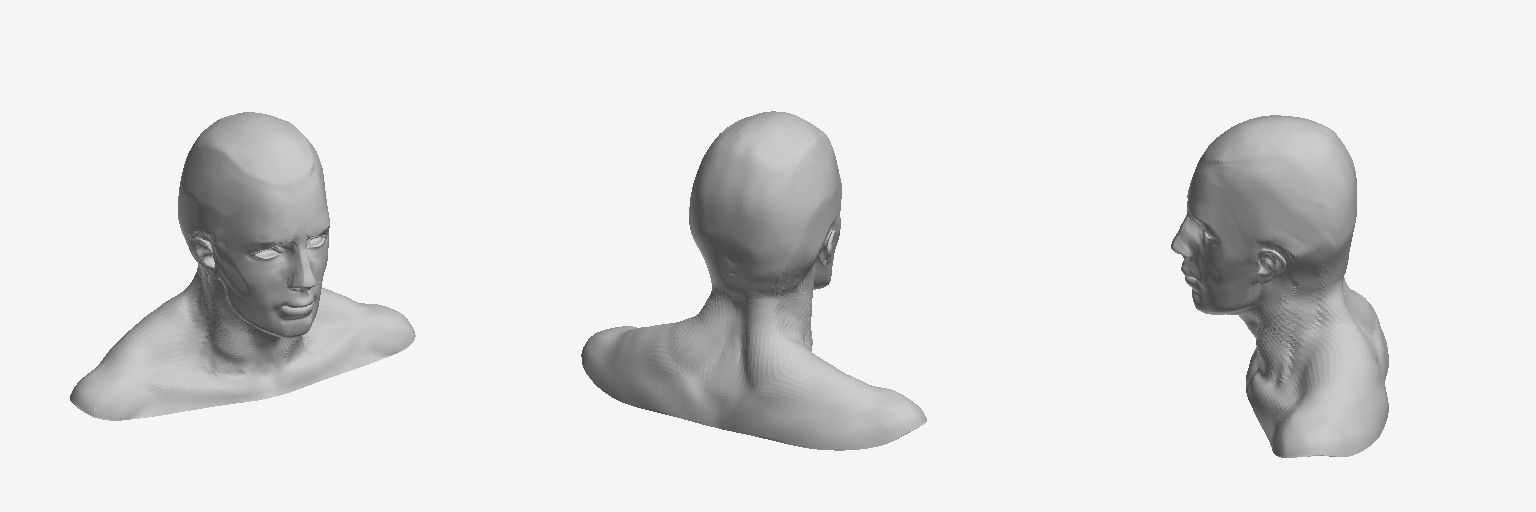
The model's file is Generic Head Planed Out.OBJ.
3 renders of one model, left to right at view 1: azimuth 30°, elevation 25°; view 2: azimuth 150°, elevation 25°; view 3: azimuth 270°, elevation 25°, orthographic.
Visible parts, largest first — view 1: Group48944; view 2: Group48944; view 3: Group48944.
Part boxes in pixels (bbox=[...]): Group48944: bbox=[70, 112, 415, 420]; Group48944: bbox=[581, 111, 926, 450]; Group48944: bbox=[1171, 115, 1388, 457].
Size of the model in its own units: 2 by 1.54 by 1.13.